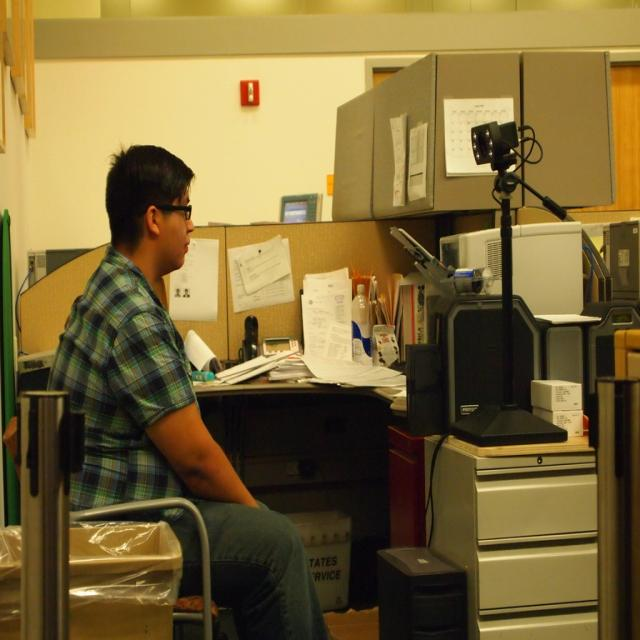desk: (153, 335, 436, 608)
person: (46, 140, 330, 640)
tv: (437, 294, 539, 432)
